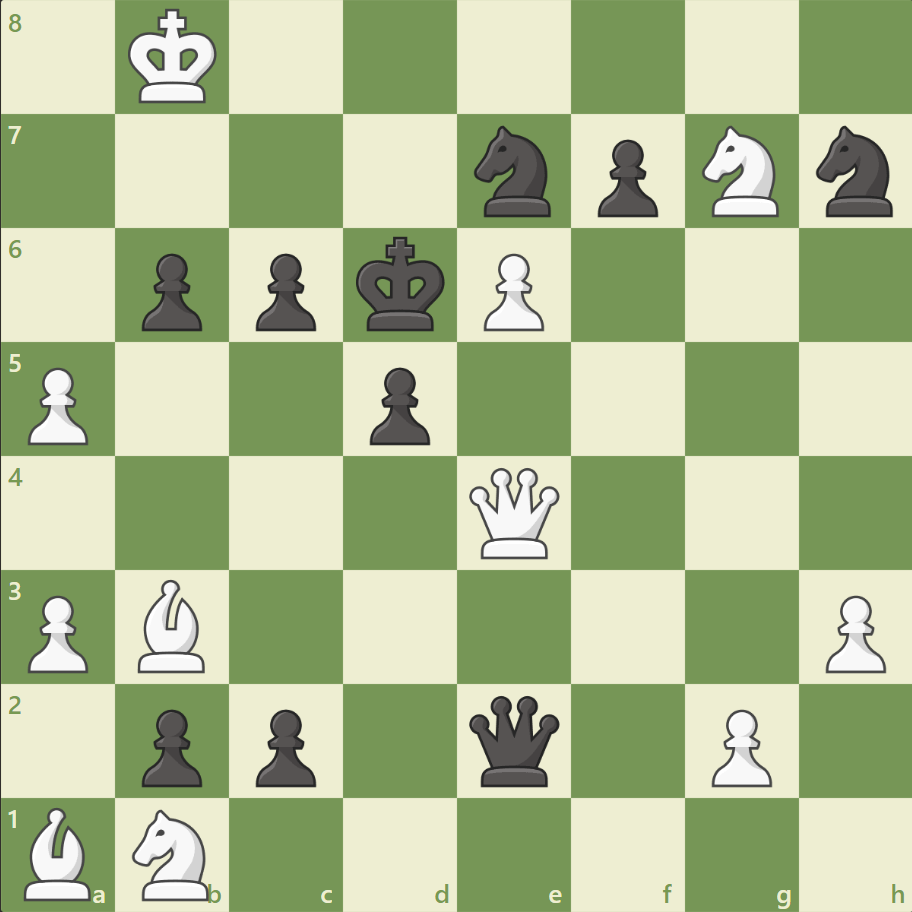B: (17, 801, 101, 904), (131, 574, 215, 676)
K: (124, 4, 224, 112)
N: (124, 802, 222, 904), (692, 121, 789, 223)
P: (474, 246, 549, 337), (20, 359, 95, 450), (20, 586, 95, 677), (701, 700, 776, 791), (815, 586, 889, 677)
Q: (464, 463, 563, 562)
k: (351, 231, 451, 339)
n: (465, 121, 562, 223), (806, 121, 903, 223)
p: (133, 246, 208, 337), (247, 246, 322, 337), (133, 700, 208, 791), (247, 700, 322, 791), (588, 132, 662, 223), (361, 359, 435, 450)
q: (464, 690, 563, 789)
